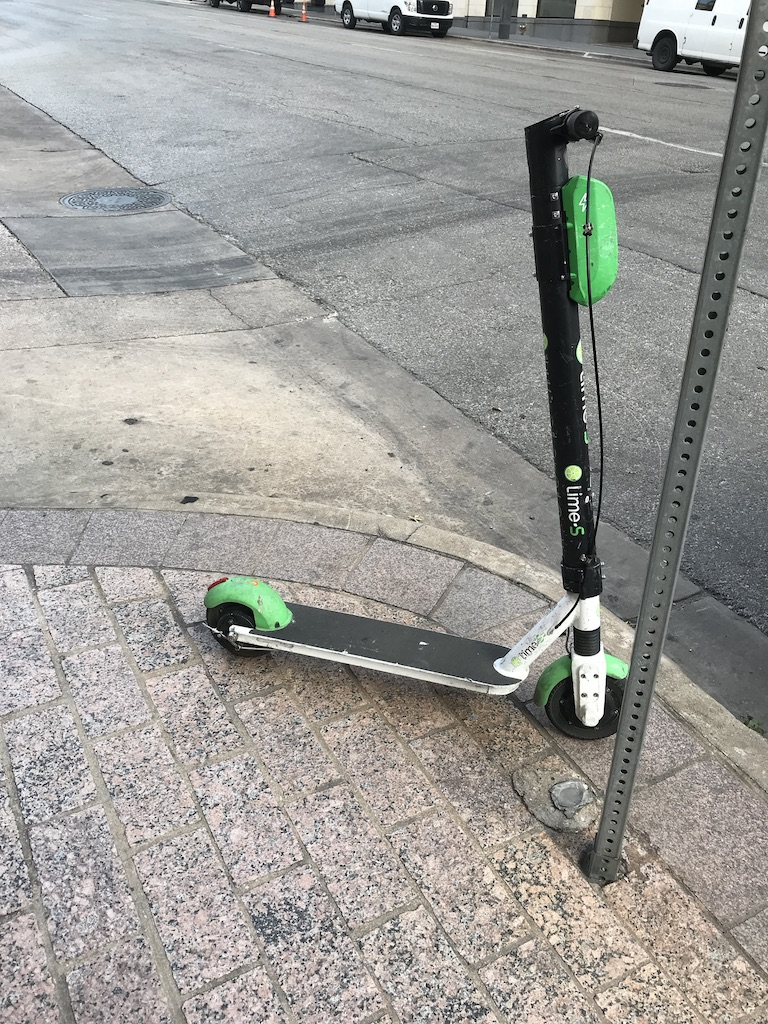scooter: (203, 109, 627, 743)
